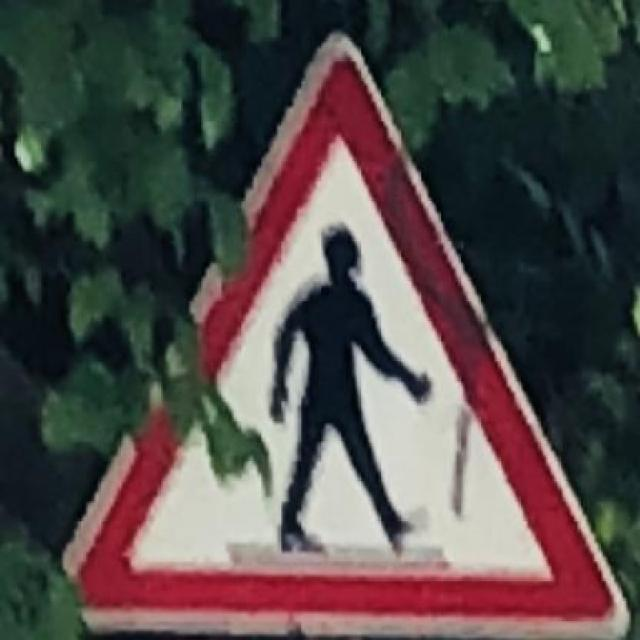pedestrian crossing: (69, 23, 611, 622)
